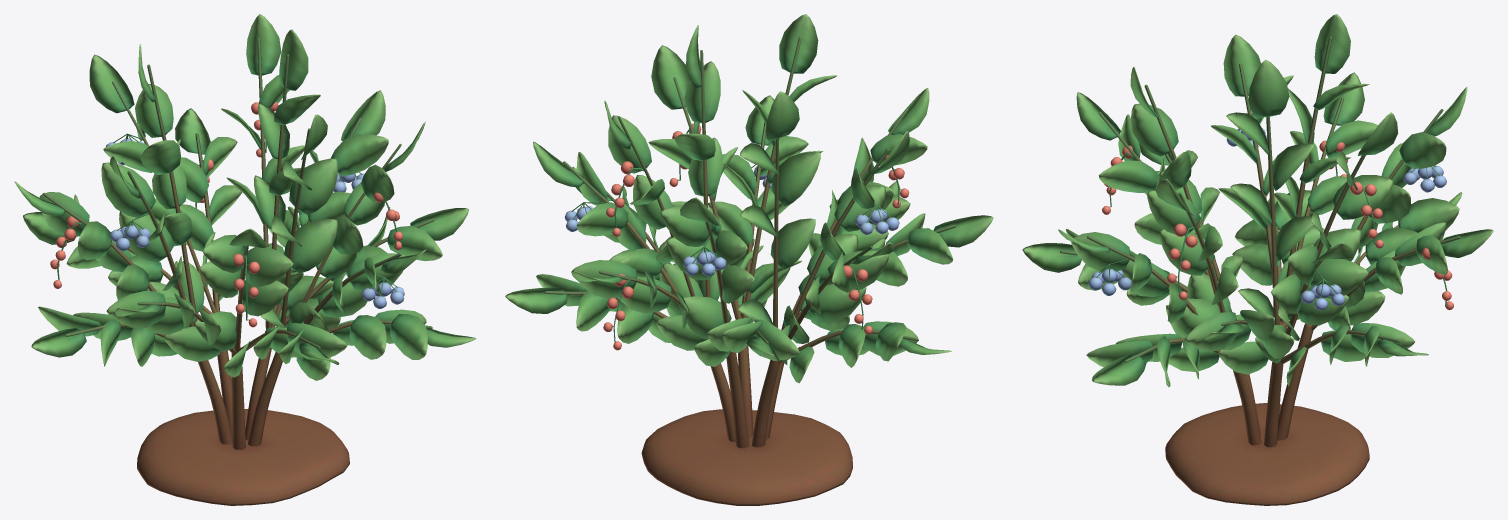
Rendered from berry-bush.glb.
3 views of the same model, side by side, from view 1: azimuth 30°, elevation 25°; view 2: azimuth 150°, elevation 25°; view 3: azimuth 270°, elevation 25° (orthographic).
Parts seen in each view (by area): view 1: berry-bush.001; view 2: berry-bush.001; view 3: berry-bush.001.
Boxes of the visible parts, box(x1,y1,x2,y2) form: berry-bush.001: box(14, 14, 476, 505); berry-bush.001: box(505, 14, 993, 505); berry-bush.001: box(1022, 14, 1493, 505).
Size of the model in its own units: 1.01 by 1 by 1.01.
1 material, 1 textured.
